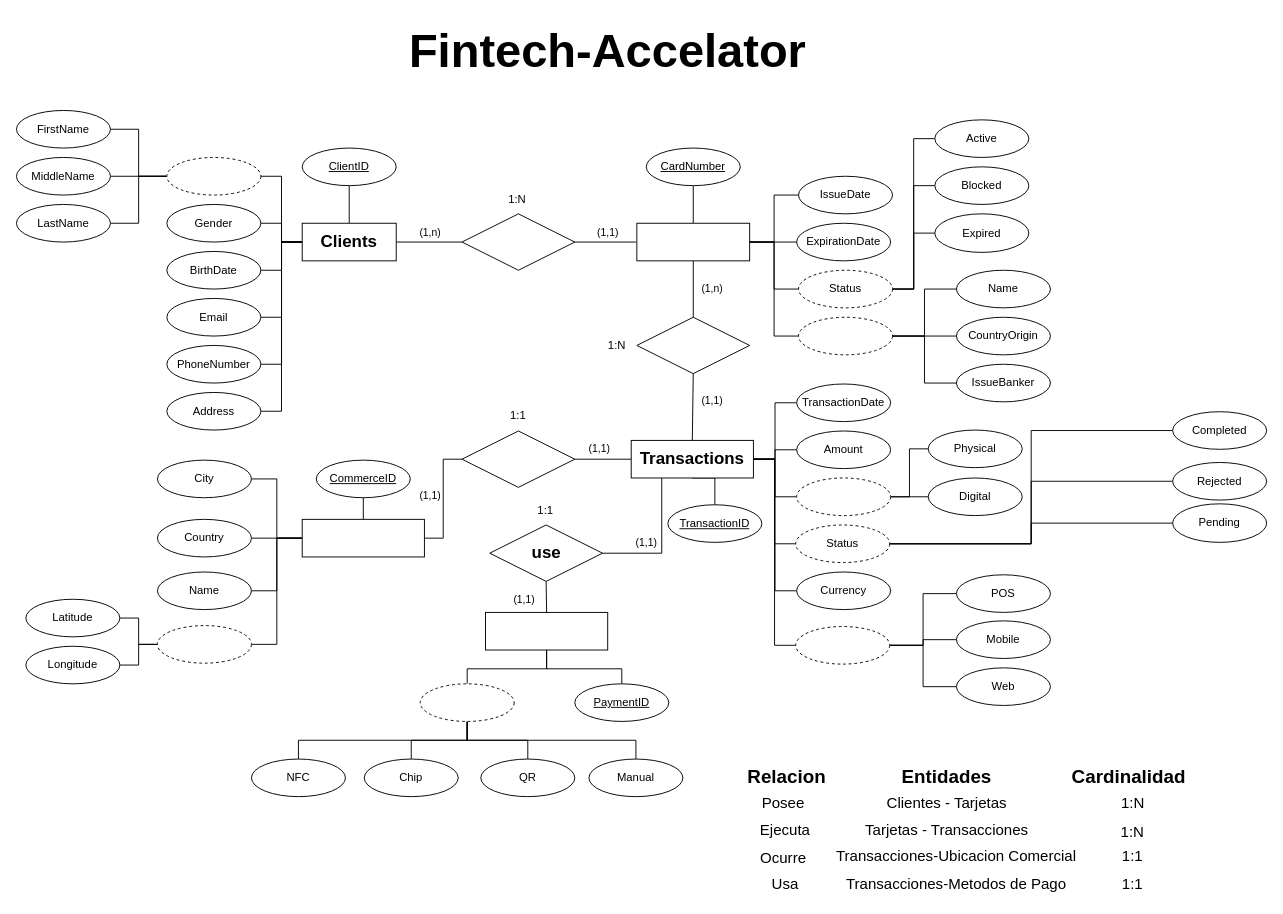
This 1283x914 diagram has some shape labels left out. Each missing label, with the box of its shape:
Channel: (796, 477, 891, 516)
Commerces: (301, 518, 424, 557)
CreditCards: (636, 222, 750, 261)
Device: (795, 626, 890, 664)
execute: (636, 316, 750, 374)
Franchise: (798, 316, 893, 355)
FullName: (166, 157, 261, 195)
Geographic Coordinates: (157, 625, 251, 663)
Method: (419, 683, 514, 721)
occur: (461, 430, 575, 487)
own: (461, 213, 575, 270)
Payment Methods: (485, 611, 608, 650)
